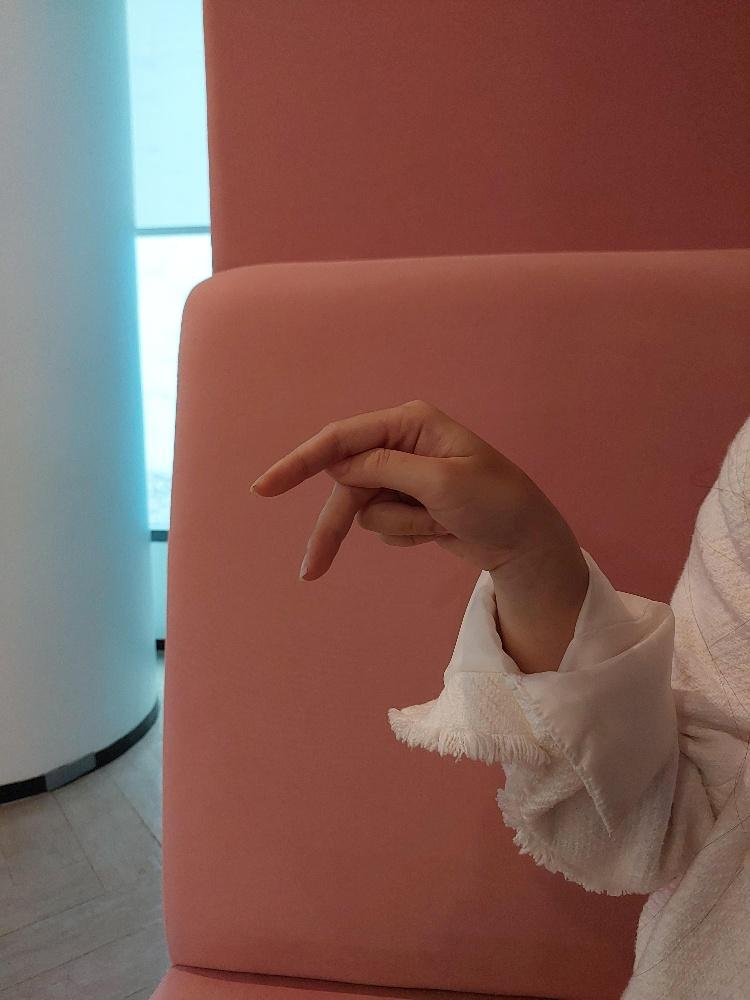p: (250, 398, 481, 582)
